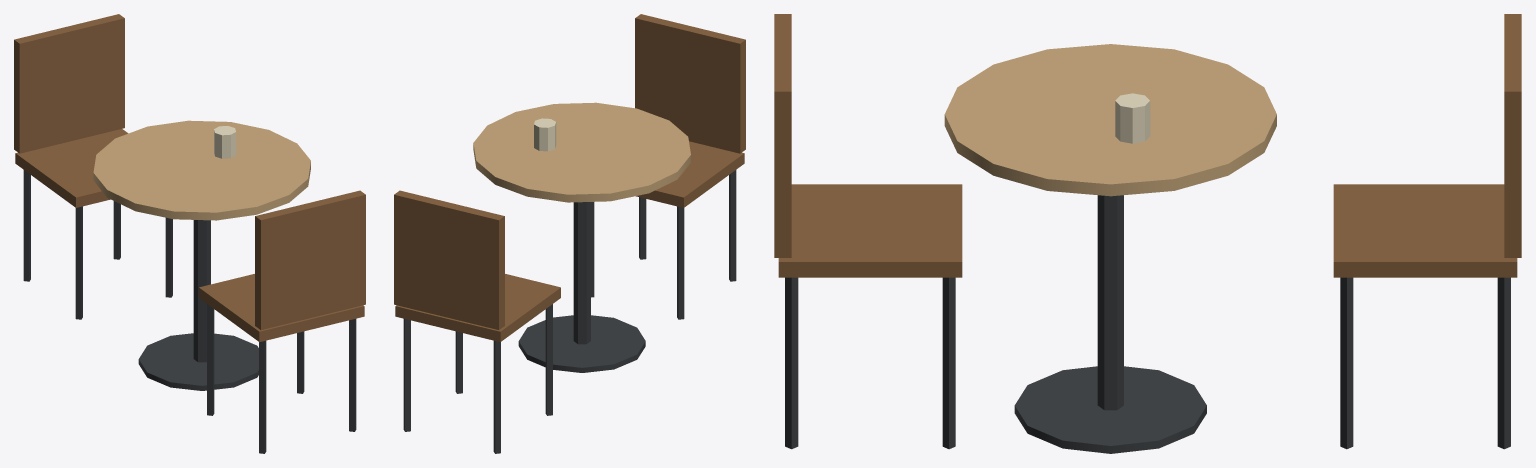
File: cafe_table.glb
The picture shows the model from 3 angles, left to right: view 1: azimuth 30°, elevation 25°; view 2: azimuth 150°, elevation 25°; view 3: azimuth 270°, elevation 25°; orthographic projection. The views are drawn at different scales.
Parts seen in each view (by area): view 1: CafeTable; view 2: CafeTable; view 3: CafeTable.
Boxes of the visible parts, left/top/right/bottom form: CafeTable: left=14, top=14, right=365, bottom=453; CafeTable: left=394, top=14, right=745, bottom=453; CafeTable: left=774, top=14, right=1521, bottom=453.
Size of the model in its own units: 0.76 by 0.91 by 1.71.
